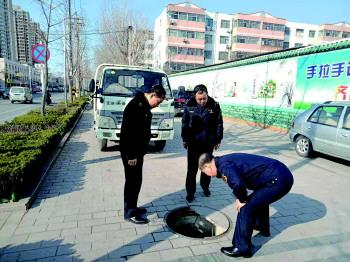broke: (158, 196, 240, 239)
